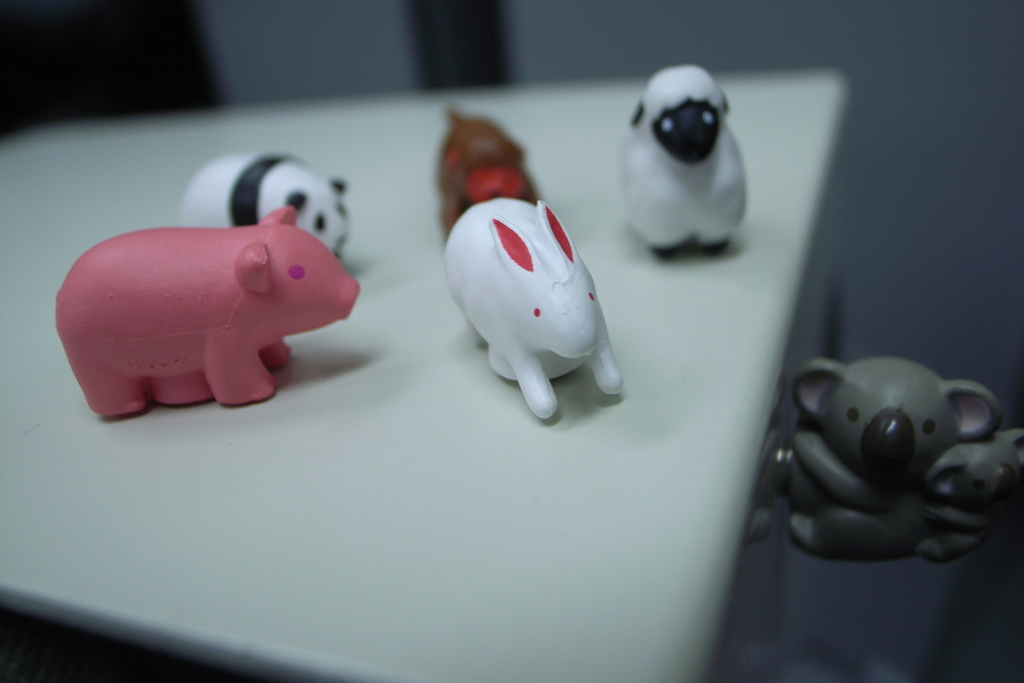Animal: (55, 208, 359, 418), (766, 365, 1021, 561), (439, 192, 624, 422), (619, 63, 753, 254), (171, 153, 352, 264), (433, 102, 533, 240)
